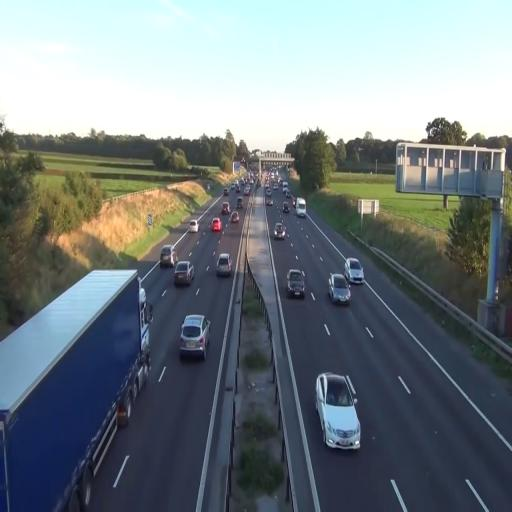vehicle: (0, 267, 143, 507), (315, 372, 361, 450), (179, 312, 211, 361), (327, 272, 351, 305), (286, 269, 306, 299), (344, 257, 364, 286), (174, 260, 194, 287), (215, 250, 233, 278), (160, 245, 174, 268), (272, 222, 288, 240), (211, 218, 223, 234), (296, 198, 306, 216)
